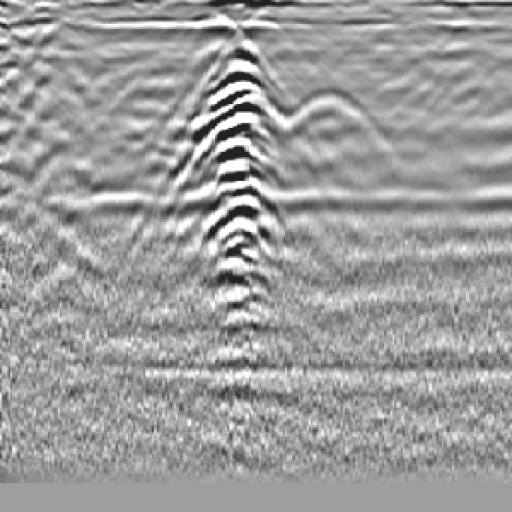metalic: (161, 32, 305, 362)
nonmetalic: (265, 78, 414, 178)
